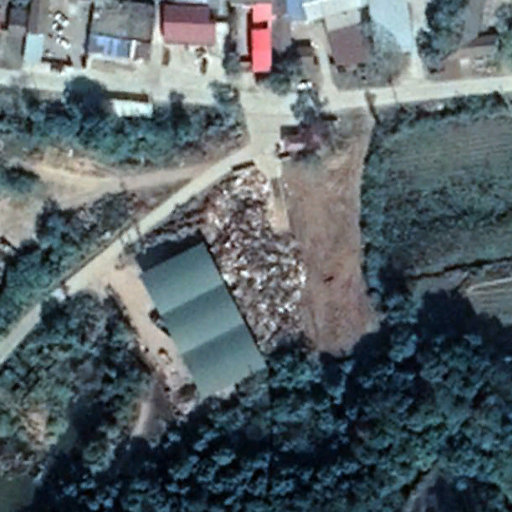msw: (203, 165, 311, 345)
